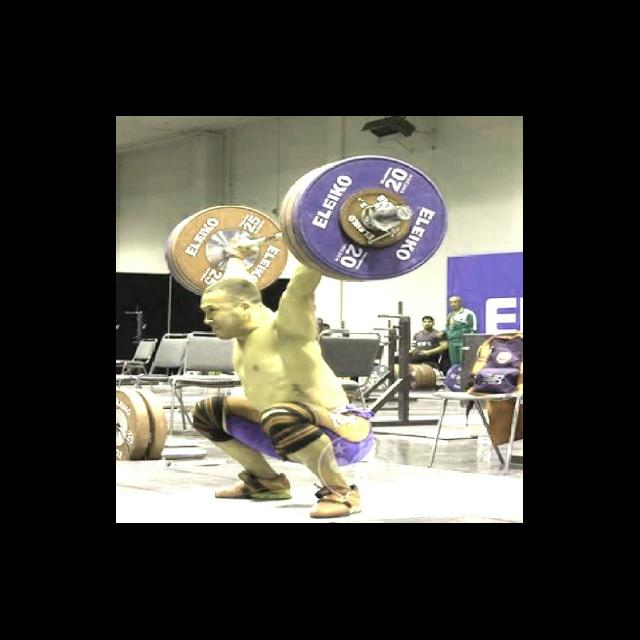barbell: (295, 152, 449, 281)
